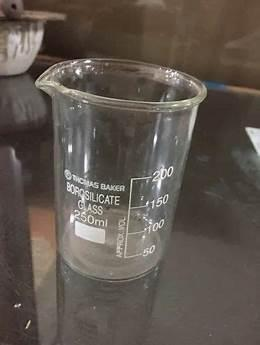Beaker: (33, 50, 207, 286)
